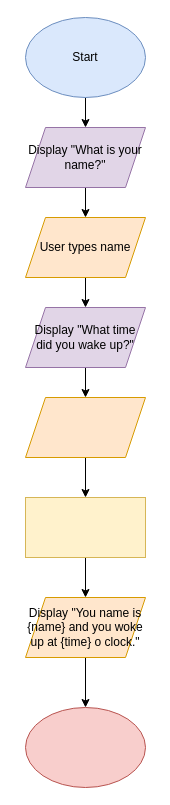
Some shapes in this 170 by 805 pixel diagram are drawn without their labels. Each missing label, with the centre of its shape:
"End" goes at [85,747].
"time = Convert.ToInt32(getTime)" goes at [85,527].
"User types time" goes at [85,427].
